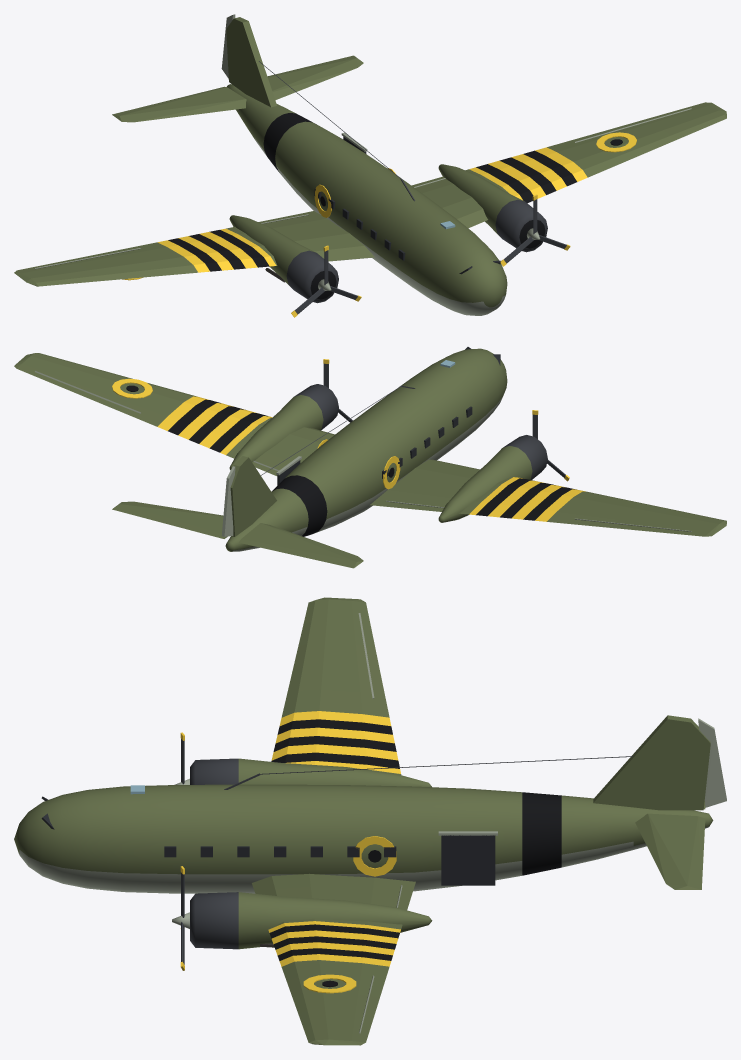
Rendered from transport_plane.glb.
3 views of the same model, one above another, from view 1: azimuth 30°, elevation 25°; view 2: azimuth 150°, elevation 25°; view 3: azimuth 270°, elevation 25° (orthographic). The views are drawn at different scales.
Parts seen in each view (by area): view 1: LOD0, PropRight_mesh, PropLeft_mesh; view 2: LOD0; view 3: LOD0.
Part boxes in pixels (<box>): LOD0: <box>14,14,726,315</box>; PropRight_mesh: <box>291,245,361,317</box>; PropLeft_mesh: <box>500,194,570,266</box>; LOD0: <box>14,347,726,568</box>; LOD0: <box>14,597,726,1045</box>.
Bounding box in the file's own units: 29.5 × 5.28 × 19.85.
1 material, 1 textured.
